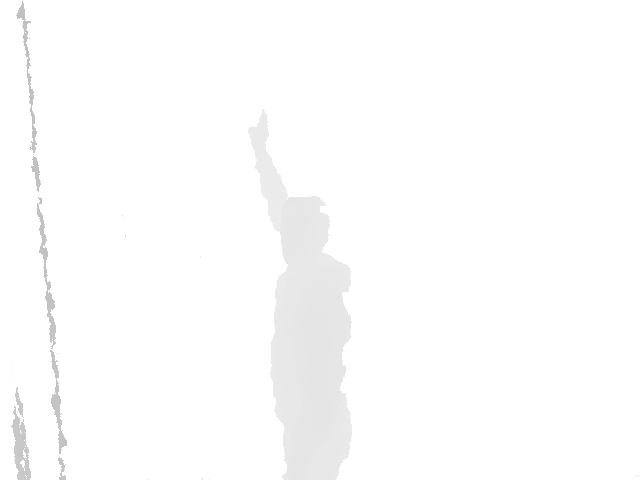hand: (249, 109, 270, 153)
head: (278, 196, 331, 265)
person: (249, 109, 353, 480)
